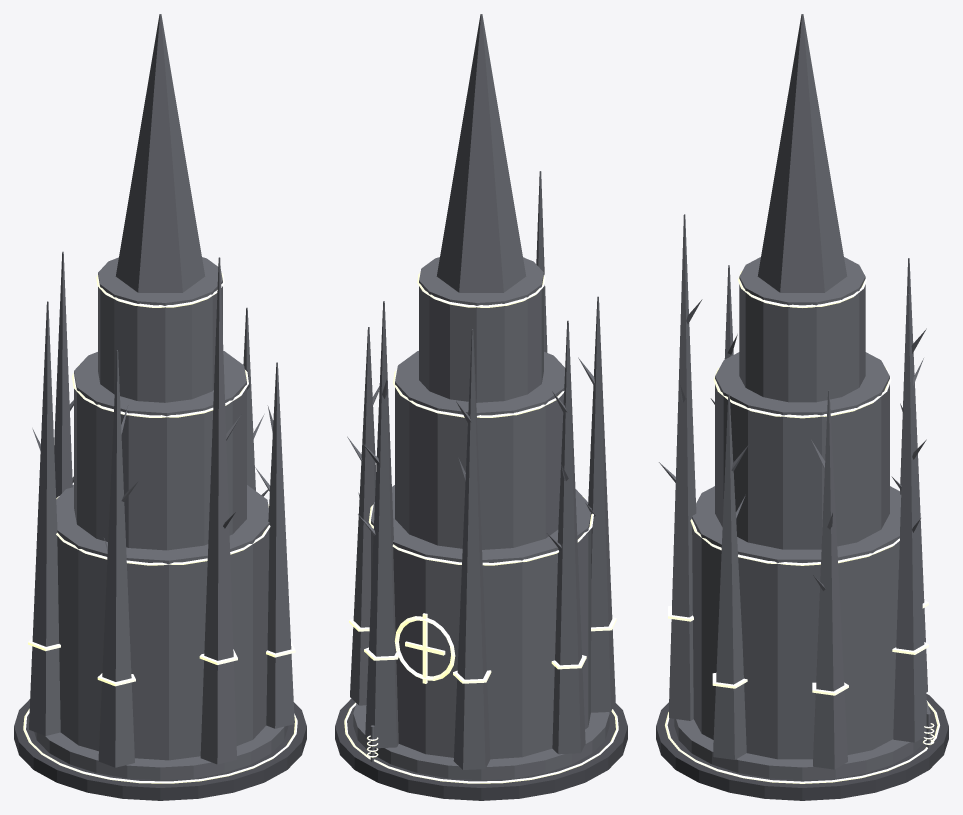
File: zone_high_6_t4.glb
The picture shows the model from 3 angles, left to right: view 1: azimuth 30°, elevation 25°; view 2: azimuth 150°, elevation 25°; view 3: azimuth 270°, elevation 25°; orthographic projection.
Parts seen in each view (by area): view 1: zone_high_6_t4; view 2: zone_high_6_t4; view 3: zone_high_6_t4.
Part boxes in pixels (x1=…): zone_high_6_t4: x1=14, y1=14, x2=306, y2=800; zone_high_6_t4: x1=335, y1=14, x2=627, y2=800; zone_high_6_t4: x1=656, y1=14, x2=948, y2=800.
Bounding box in the file's own units: 28.8 × 78.62 × 28.8.
